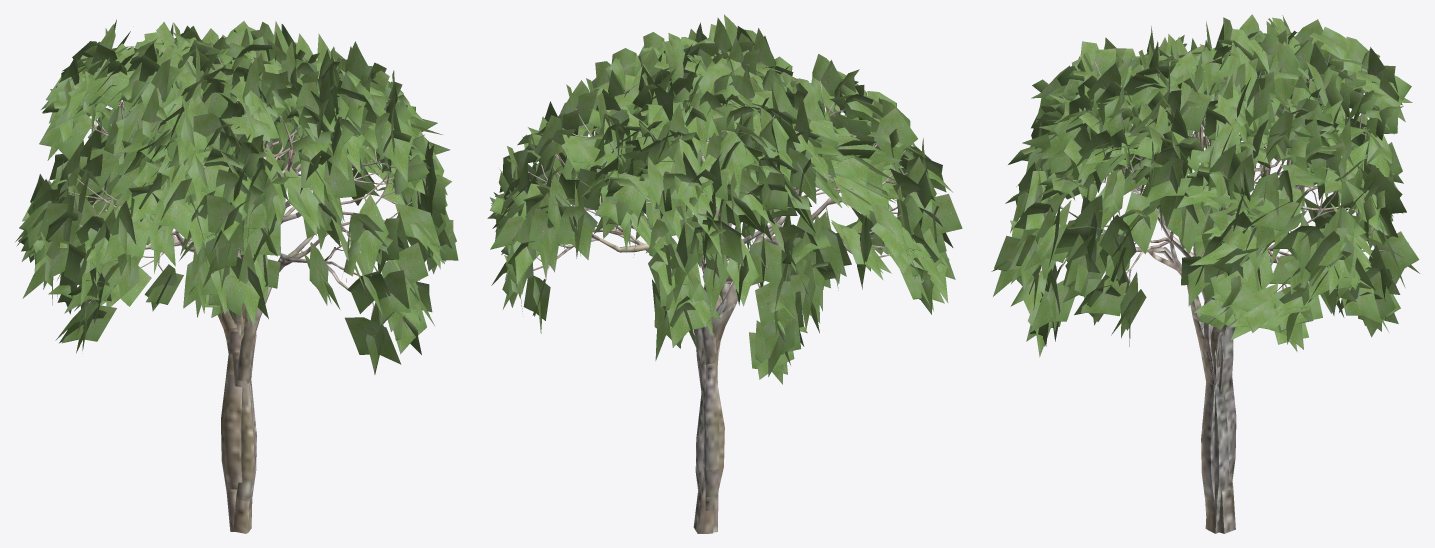
Rendered from tree_1.obj.
3 views of the same model, side by side, from view 1: azimuth 30°, elevation 25°; view 2: azimuth 150°, elevation 25°; view 3: azimuth 270°, elevation 25° (orthographic). The views are drawn at different scales.
Parts seen in each view (by area): view 1: Gnarly_t; view 2: Gnarly_t; view 3: Gnarly_t.
Boxes of the visible parts, <box> form: Gnarly_t: <box>15,19,458,533</box>; Gnarly_t: <box>487,14,962,533</box>; Gnarly_t: <box>991,14,1419,533</box>.
Bounding box in the file's own units: 22.66 × 24.69 × 19.21.
Materials: 1 (1 with a texture image).
